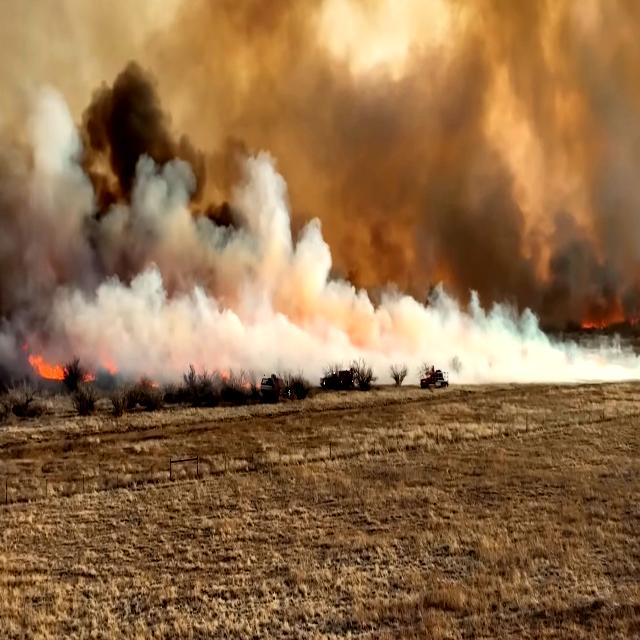smoke: (139, 170, 324, 378), (0, 48, 109, 367)
